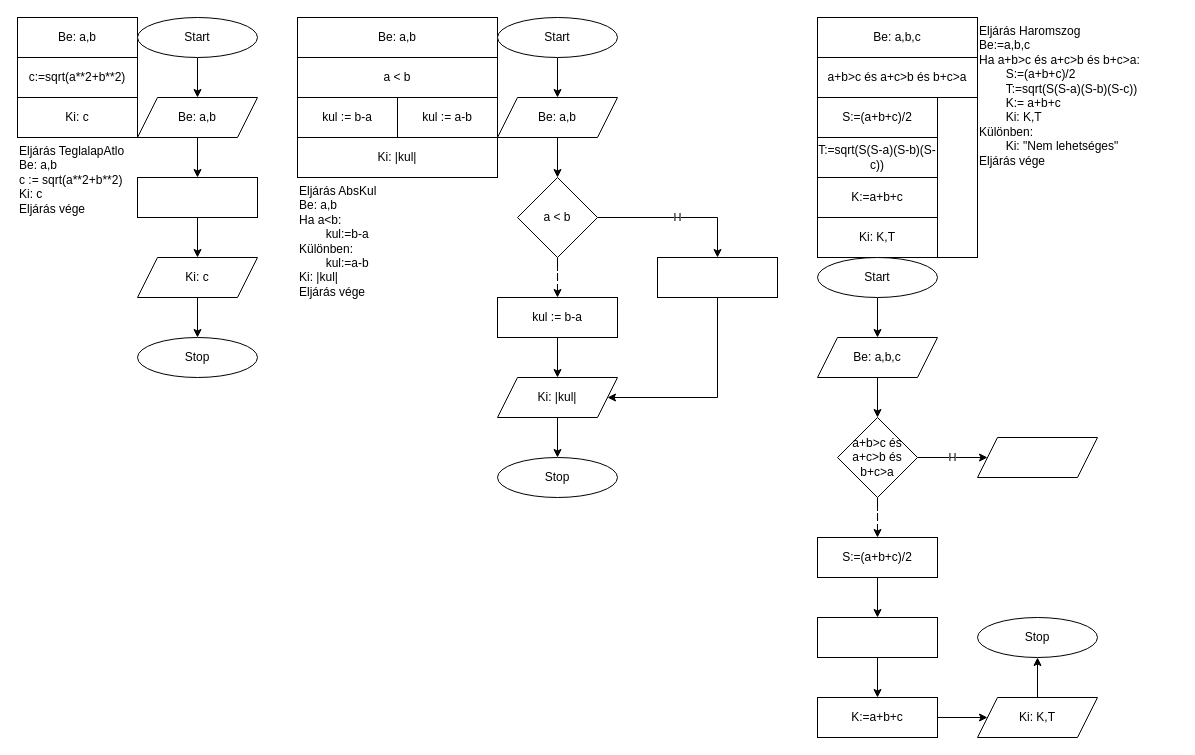
The diagram is 1195 pixels wide and 755 high, and some of its shapes have lost their labels. The shapes that lost their labels are listed below. From the top down, each one's centre as x and y in pixels, then its label:
(197,197): c := sqrt(a**2+b**2)
(957,177): Ki: "Nem lehet-séges"
(717,277): kul:=a-b
(1037,457): Ki: "Nem lehetséges"
(877,637): T:= sqrt(S(S-a)(S-b)(S-c) )
